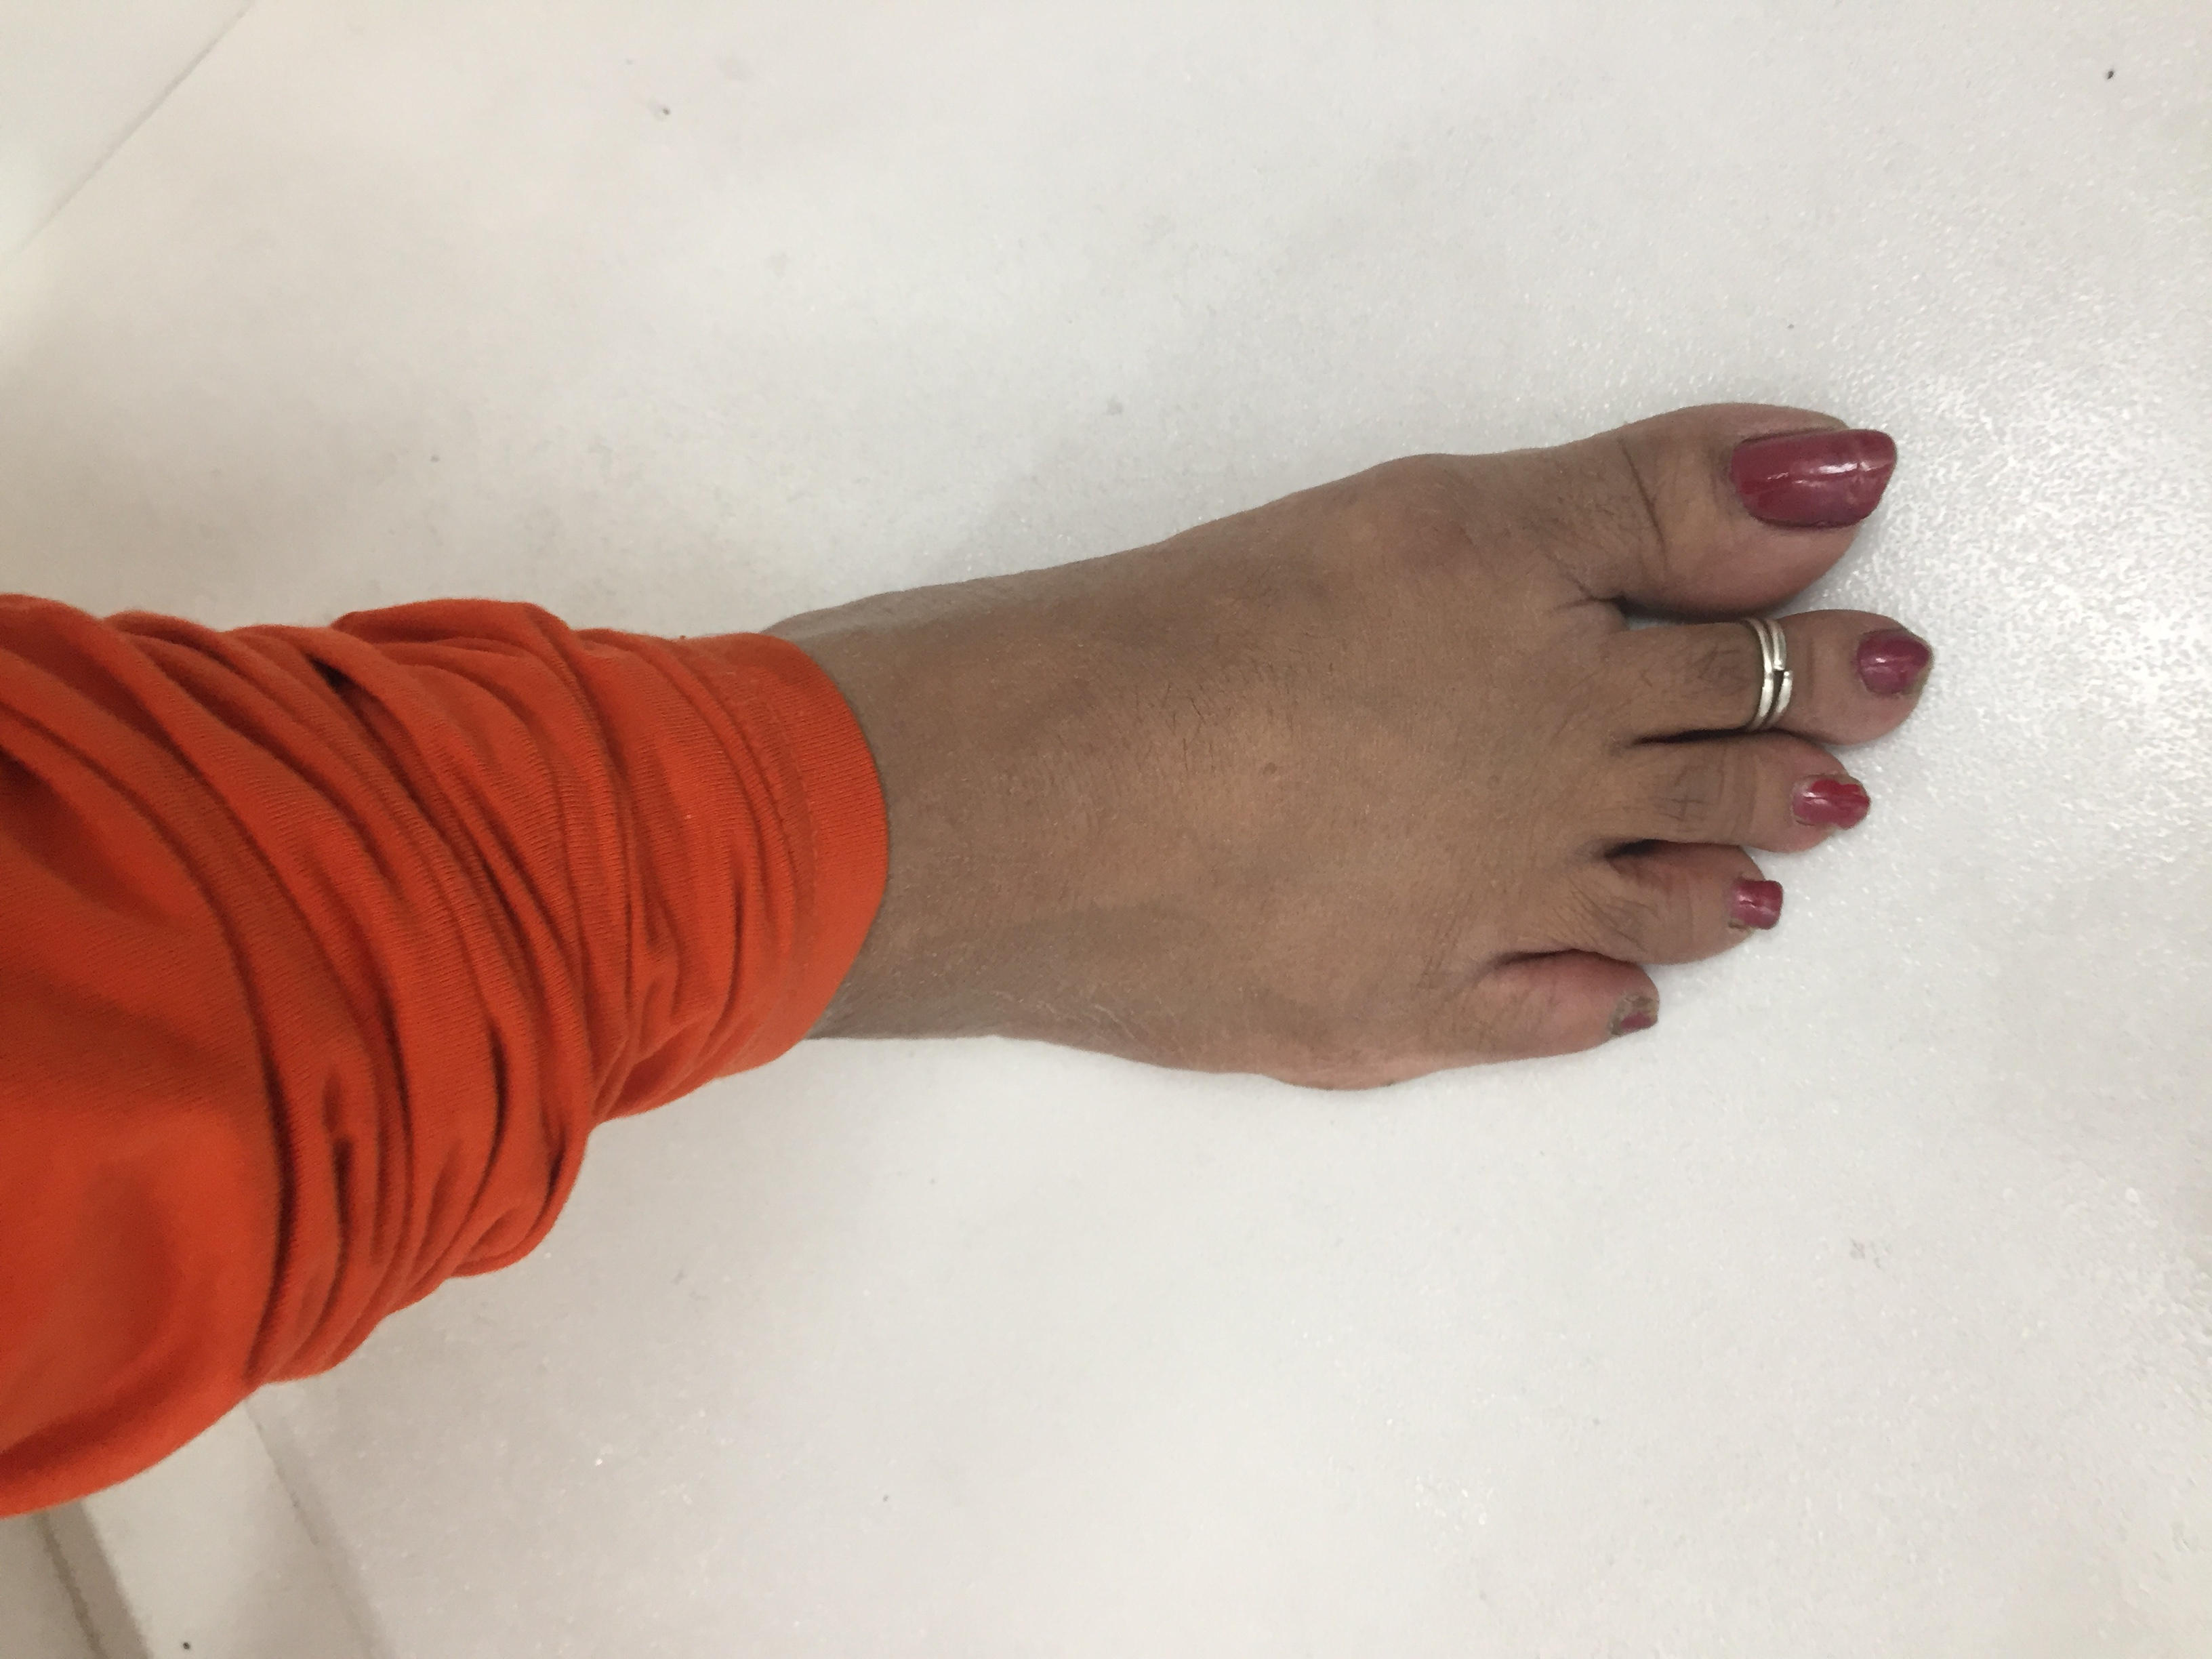feet: (486, 310, 1940, 1105)
